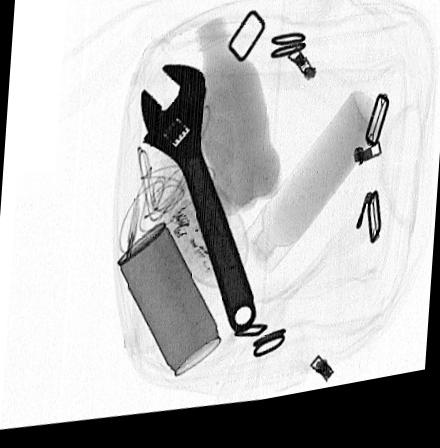Wrench: (138, 71, 255, 342)
